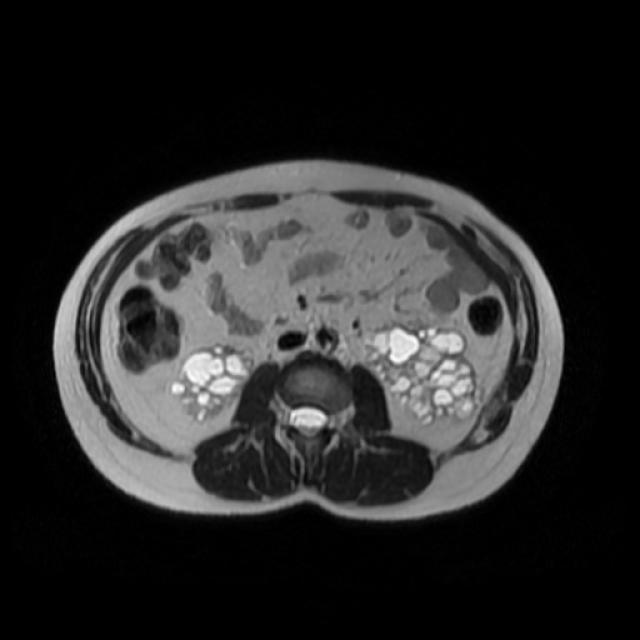sag: (166, 342, 255, 425)
sol: (362, 319, 479, 429)
